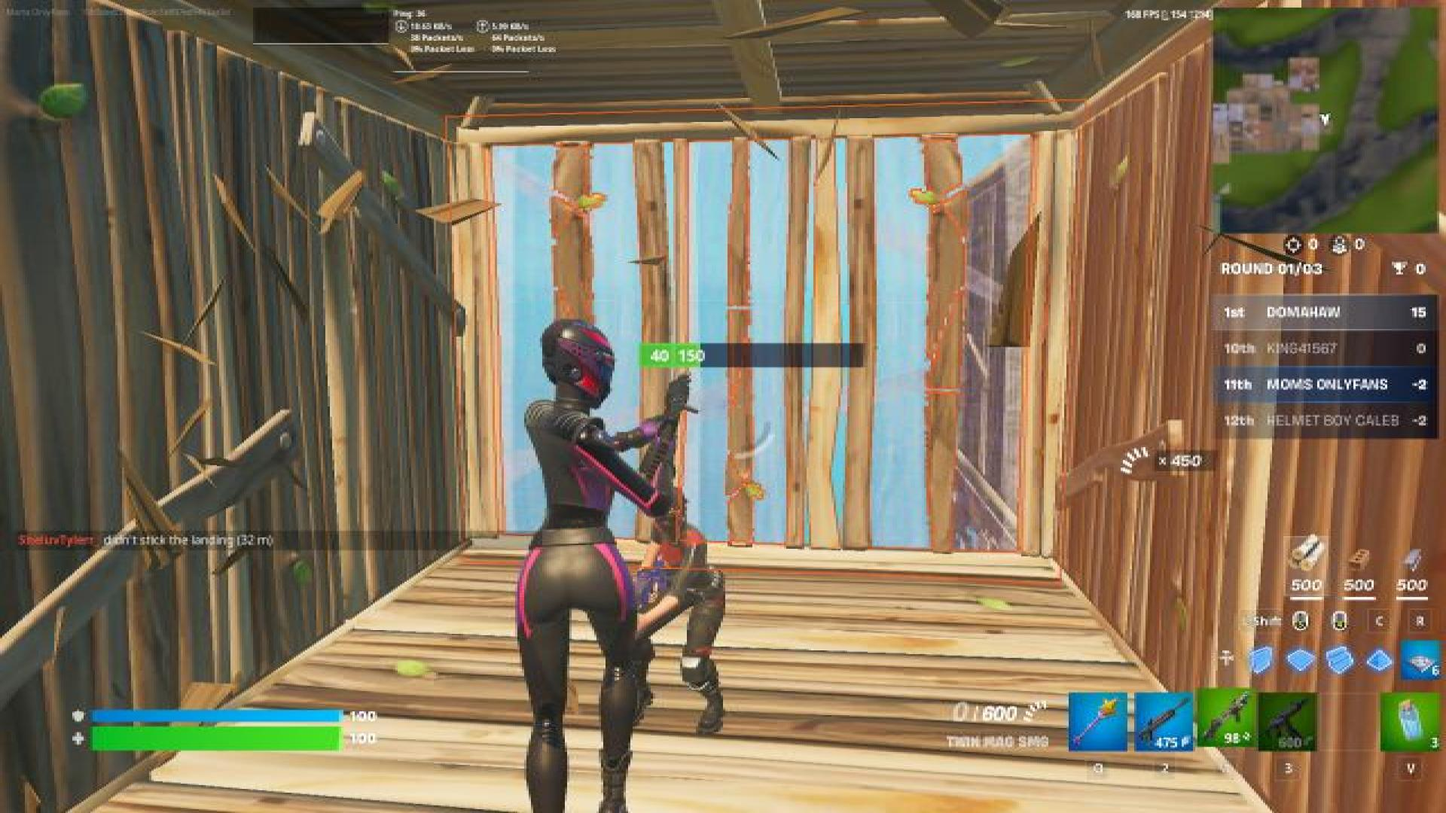player: (624, 497, 737, 733)
